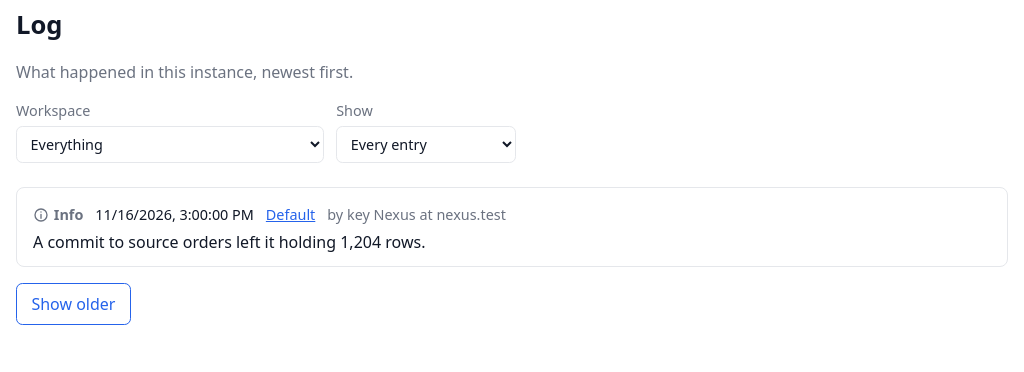
Test: shows older entries below the ones it has
The width and height of the screenshot is (1024, 372).
Expected: the text "A commit to source orders left it holding 1,204 rows." is shown, [33,231,425,253]
Click the button "Show older" at (73, 304), box [16,283,131,325]
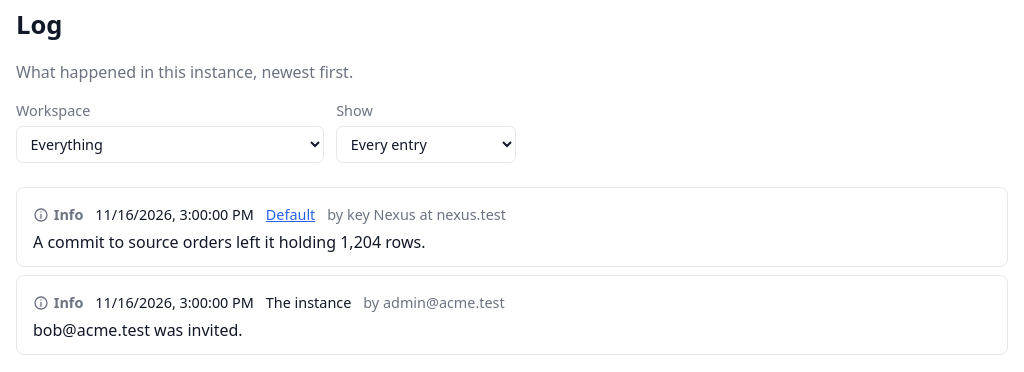
Expected: the text "A commit to source orders left it holding 1,204 rows." is shown, [33,231,425,253]
Result: the text "bob@acme.test was invited." is shown at [33,319,243,341]
Result: the button "Show older" is gone
